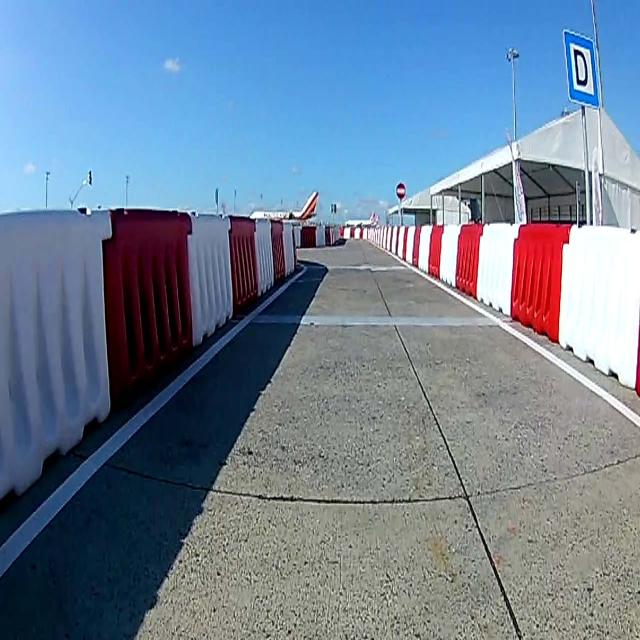durak: (562, 30, 600, 109)
girisyok: (396, 182, 406, 200)
